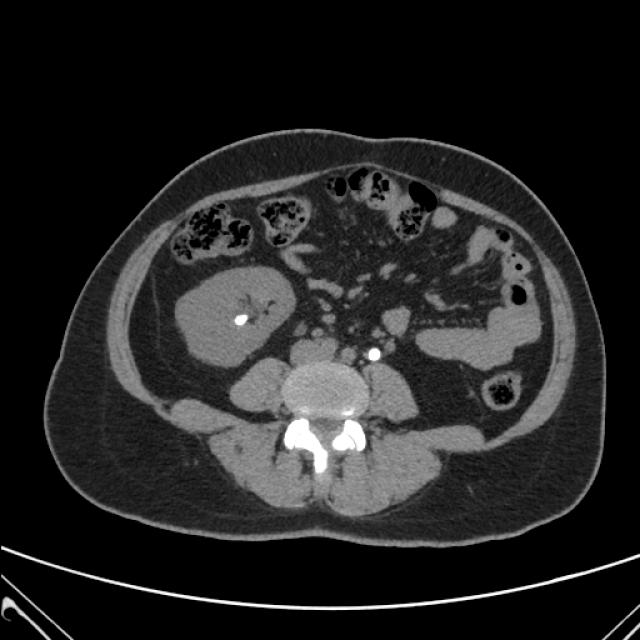kidney: (174, 265, 300, 369)
stone: (233, 313, 250, 327)
